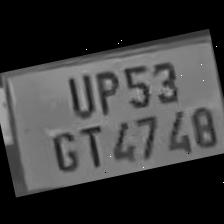3: (145, 54, 182, 105)
4: (100, 113, 140, 166), (155, 102, 193, 156)
5: (114, 56, 154, 109)
7: (128, 108, 163, 161)
8: (184, 98, 221, 149)
G: (43, 124, 82, 174)
P: (86, 62, 124, 116)
T: (74, 119, 110, 172)
U: (58, 65, 98, 119)
